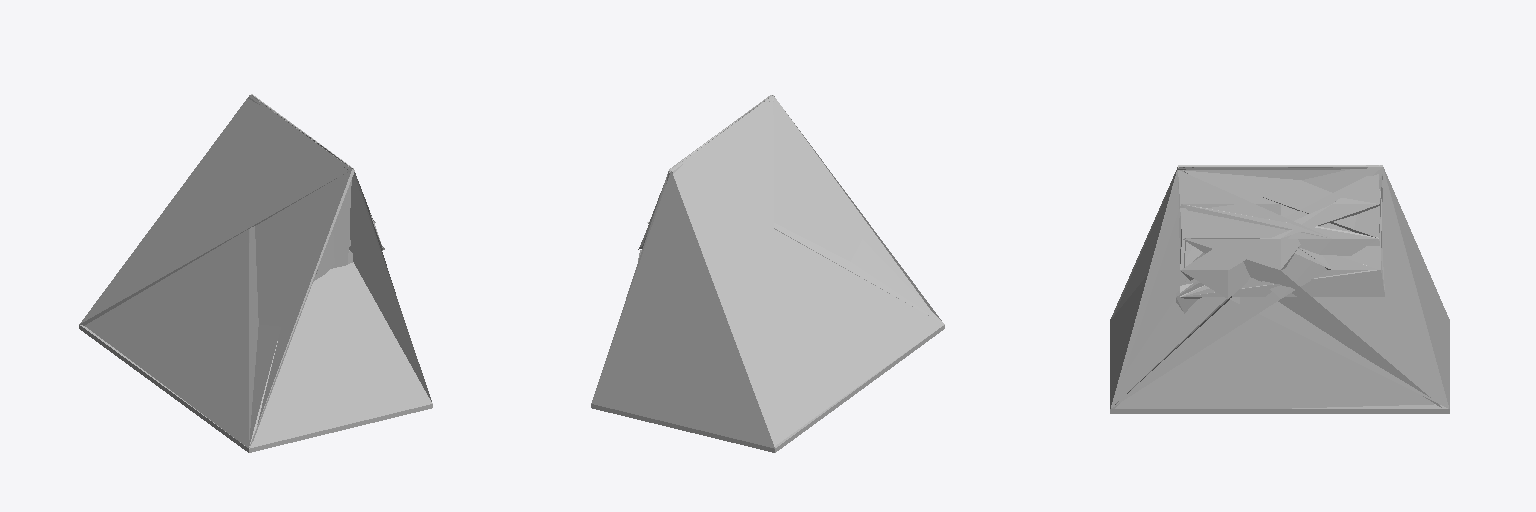
File: watervilla_c4d.obj
The picture shows the model from 3 angles: view 1: azimuth 30°, elevation 25°; view 2: azimuth 150°, elevation 25°; view 3: azimuth 270°, elevation 25°; orthographic projection.
Parts seen in each view (by area): view 1: wtr_pillar02, wtr_pillar51, wtr_door01, wtr_pillar16, wtr_house2, watervilla102, wtr_door00; view 2: wtr_pillar02, wtr_pillar51, wtr_door01, wtr_pillar16, watervilla82; view 3: wtr_house1, wtr_house2, wtr_pillar16, wtr_pillar02, wtr_window32, watervilla82, wtr_pillar51.
Part boxes in pixels (left/top/right/bottom): wtr_pillar02: left=79, top=94, right=432, bottom=452; wtr_pillar51: left=85, top=229, right=248, bottom=447; wtr_door01: left=84, top=170, right=351, bottom=451; wtr_pillar16: left=85, top=137, right=353, bottom=452; wtr_house2: left=248, top=97, right=395, bottom=292; watervilla102: left=249, top=101, right=431, bottom=452; wtr_door00: left=79, top=325, right=432, bottom=450; wtr_pillar02: left=591, top=95, right=943, bottom=448; wtr_pillar51: left=591, top=229, right=943, bottom=446; wtr_door01: left=773, top=95, right=944, bottom=431; wtr_pillar16: left=728, top=97, right=944, bottom=448; watervilla82: left=592, top=96, right=941, bottom=451; wtr_house1: left=1111, top=167, right=1448, bottom=408; wtr_house2: left=1123, top=167, right=1384, bottom=375; wtr_pillar16: left=1115, top=167, right=1445, bottom=408; wtr_pillar02: left=1110, top=166, right=1449, bottom=413; wtr_window32: left=1117, top=168, right=1433, bottom=408; watervilla82: left=1114, top=165, right=1439, bottom=404; wtr_pillar51: left=1110, top=403, right=1447, bottom=413.
Bounding box in the file's own units: 497 × 583 × 794.